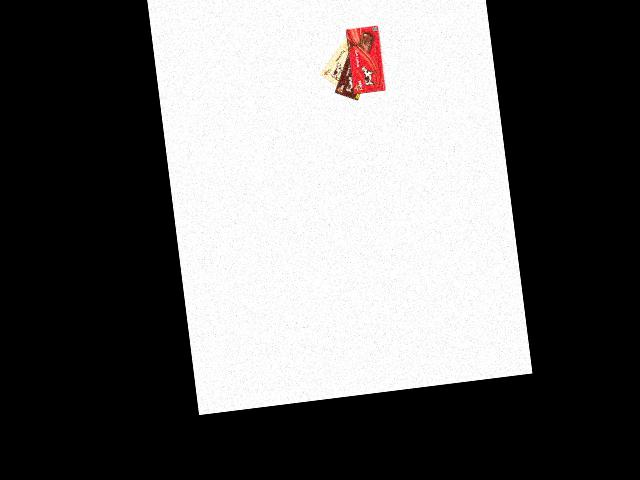chocolate: (314, 30, 359, 95)
